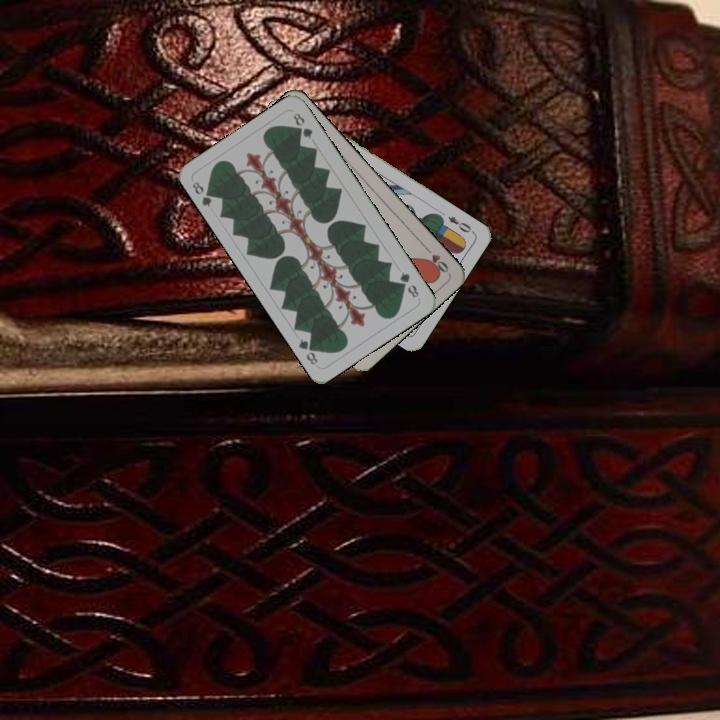EO: (444, 212, 477, 236)
G8: (188, 177, 217, 210), (395, 267, 422, 301)
HO: (420, 242, 451, 276)
